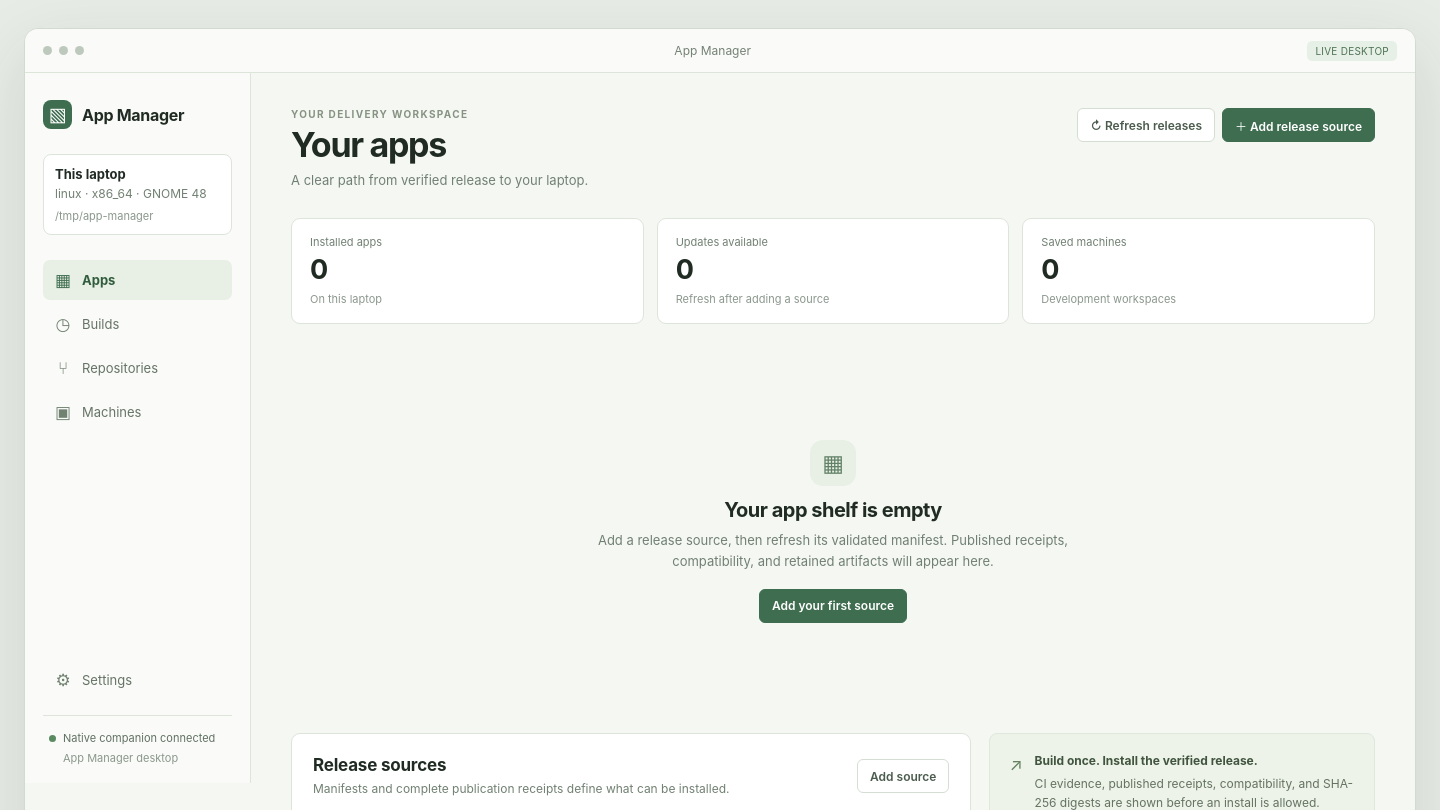
Test: App Manager runtime boundaries › reloads the durable snapshot after a real machine mutation
Expected: the heading "Your app shelf is empty" is shown, [724,498,942,523]
Click the button "▣ Machines" at (138, 412), box [43,392,232,432]
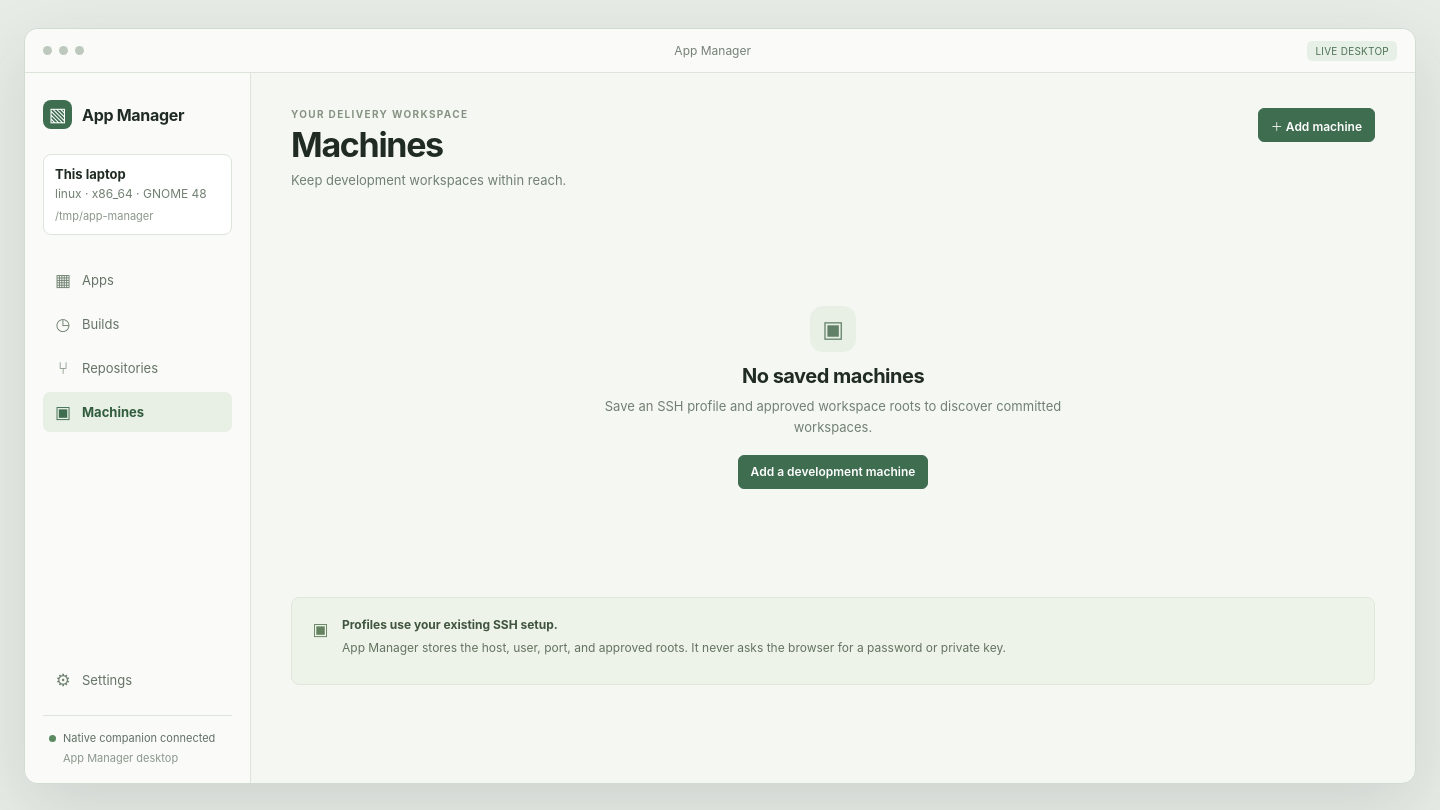
Click the button "＋ Add machine" at (1316, 125), box [1258,108,1375,142]
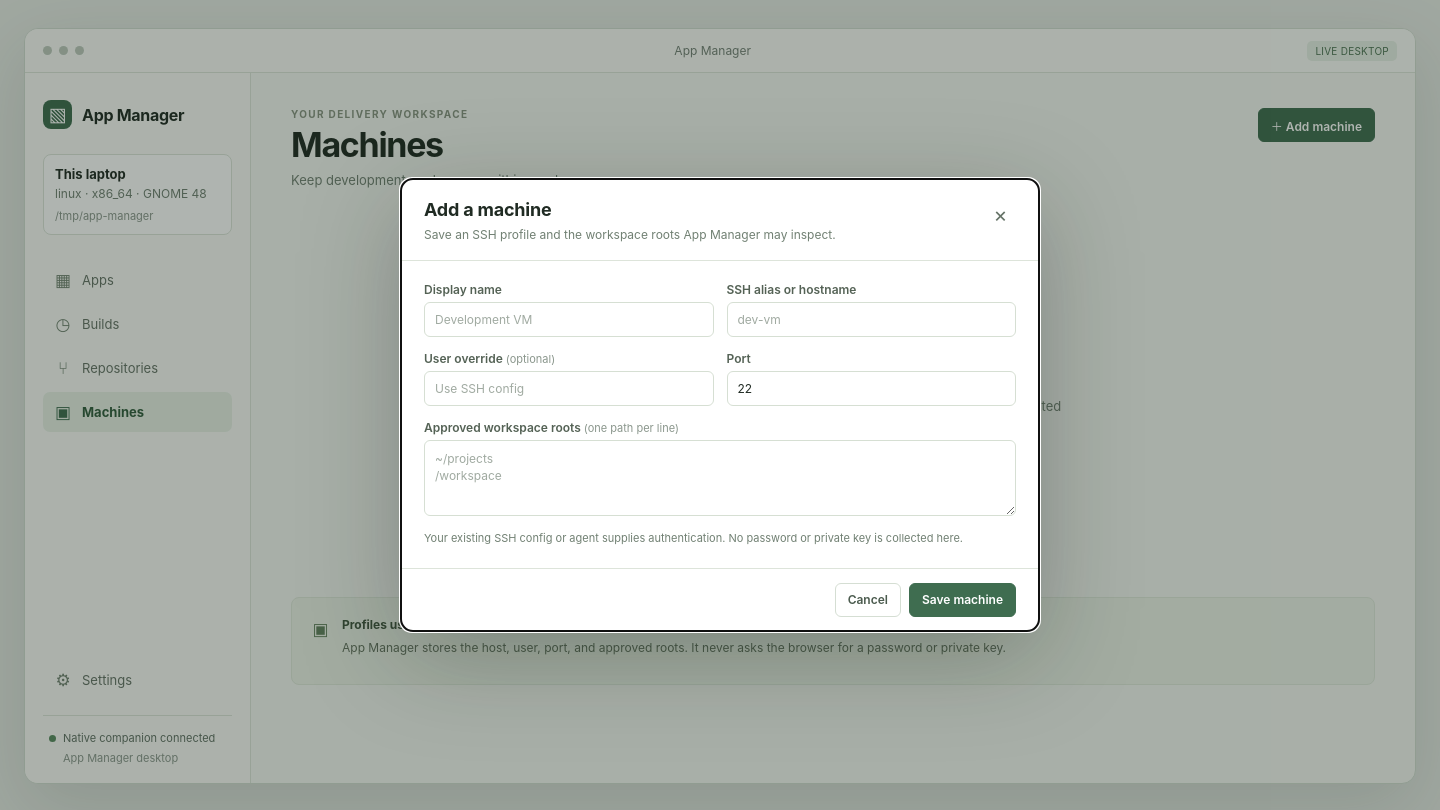
Type "Build VM" into the field labelled "Display name" at (569, 319), box [424,302,714,337]
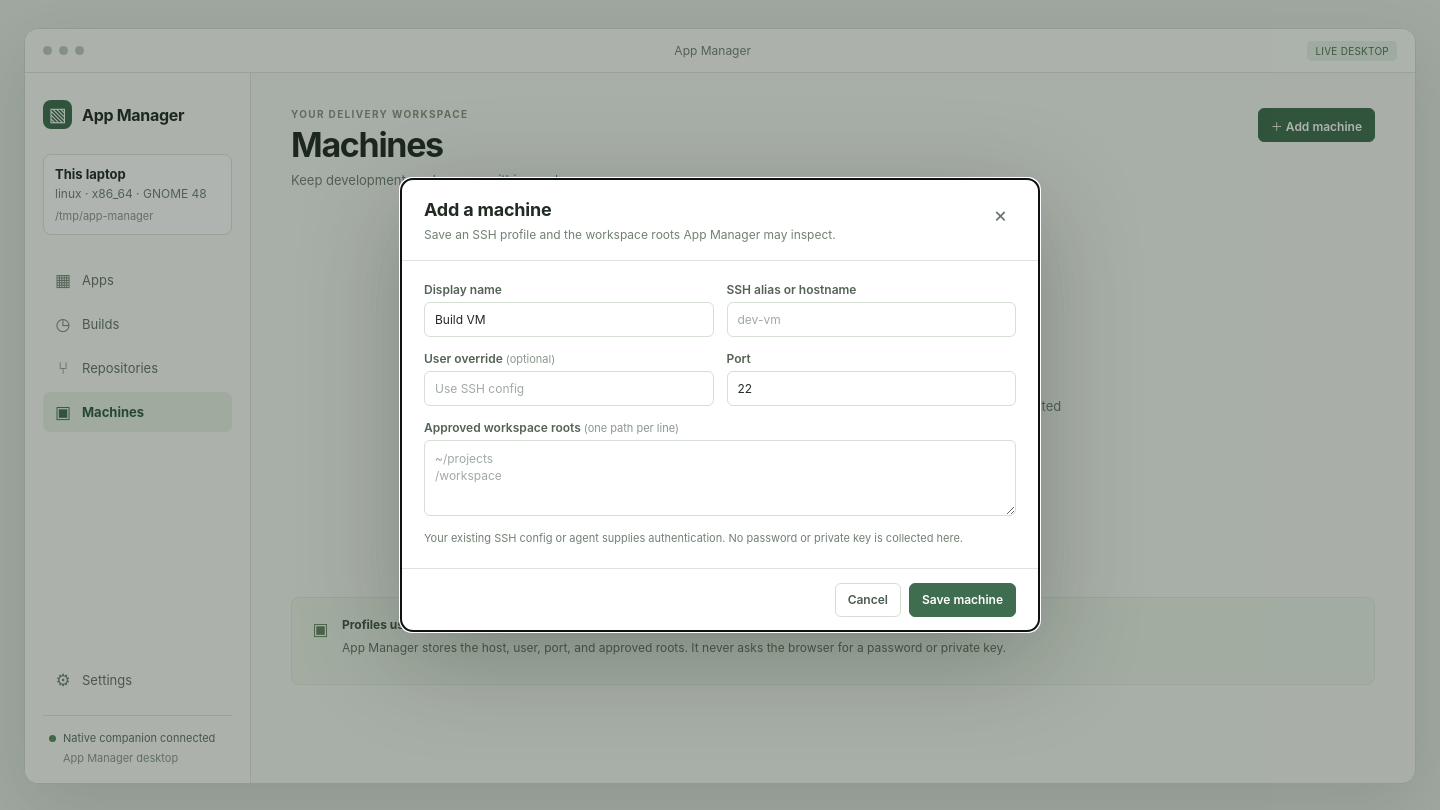
Type "build-vm" into the field labelled "SSH alias or hostname" at (871, 319), box [726,302,1016,337]
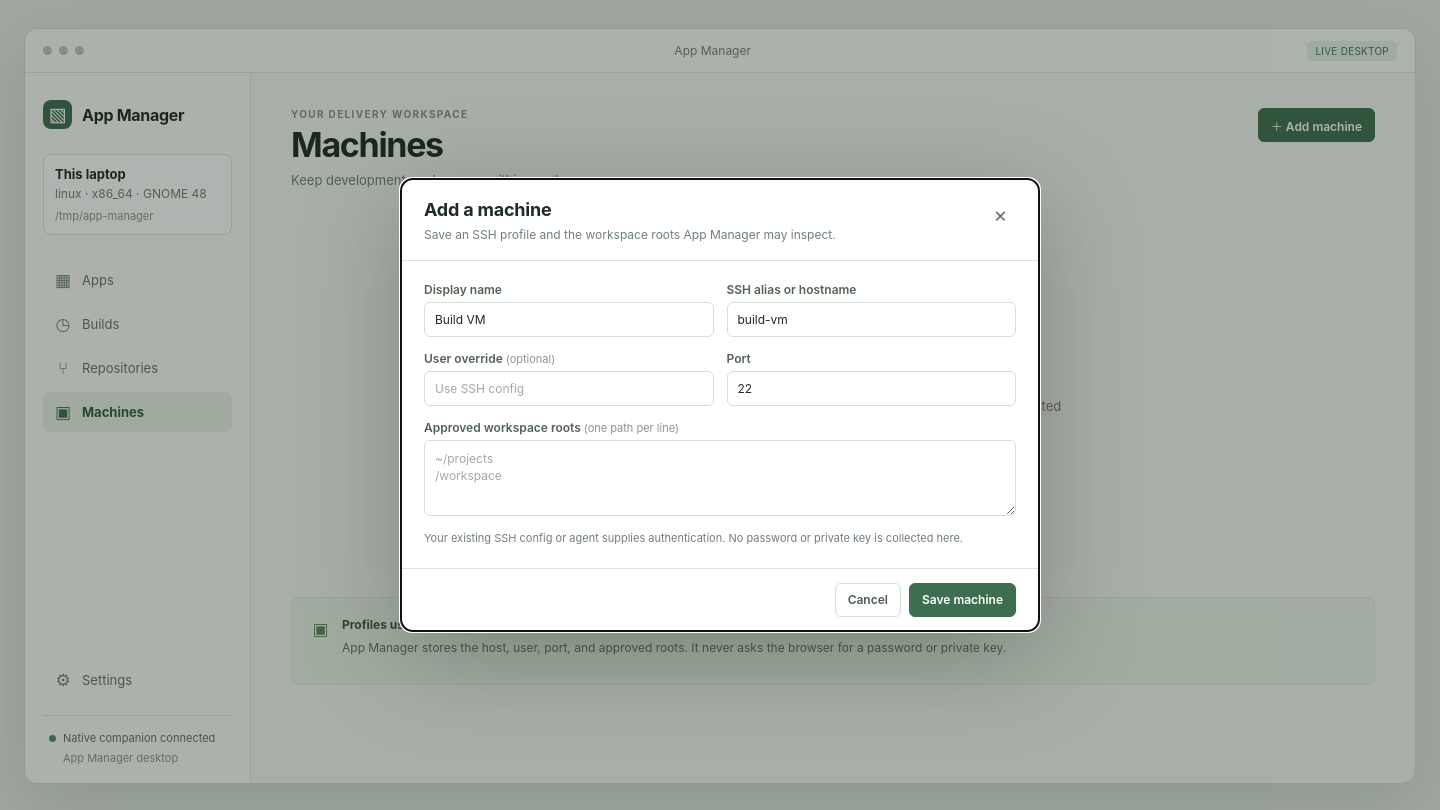
Type "/workspace" into the text box labelled "Approved workspace roots (one path per line)" at (720, 478), box [424,440,1016,516]
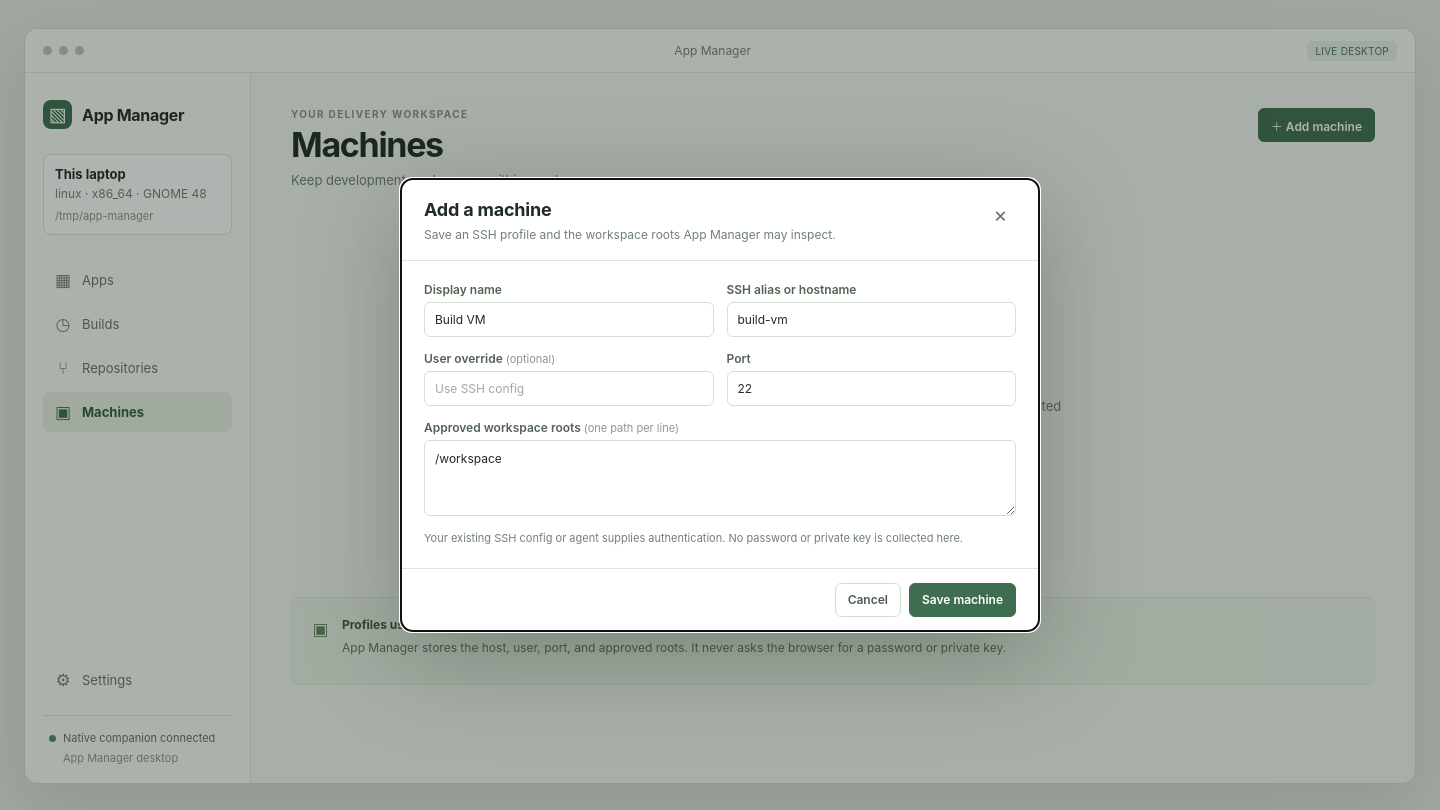
Click the button "Save machine" at (962, 600), box [909,583,1016,617]
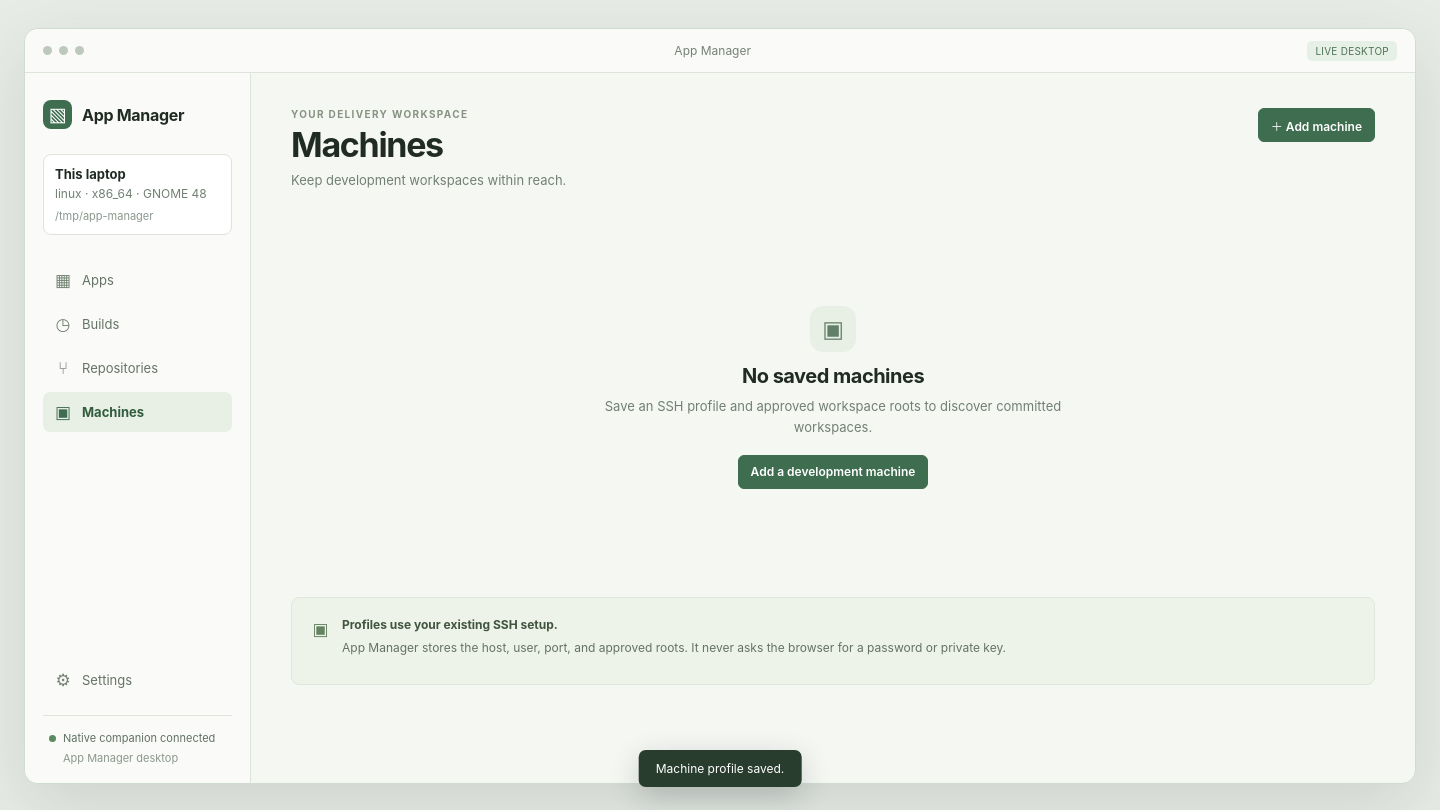
Expected: the dialog is gone
